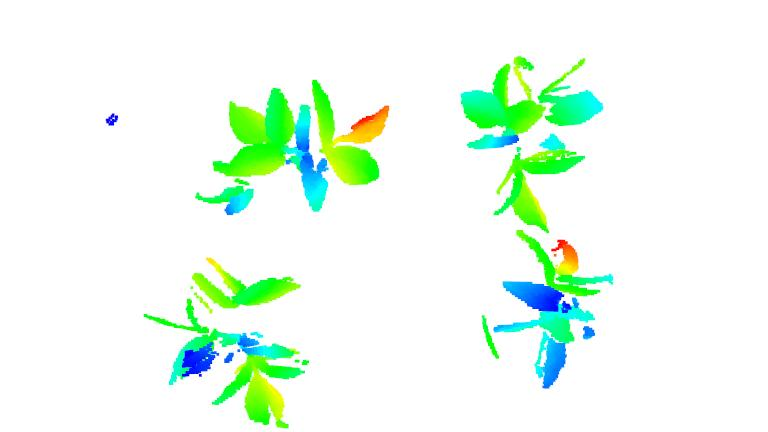mungbean: (146, 260, 323, 432), (190, 71, 393, 217), (455, 53, 605, 226), (491, 227, 618, 390)
